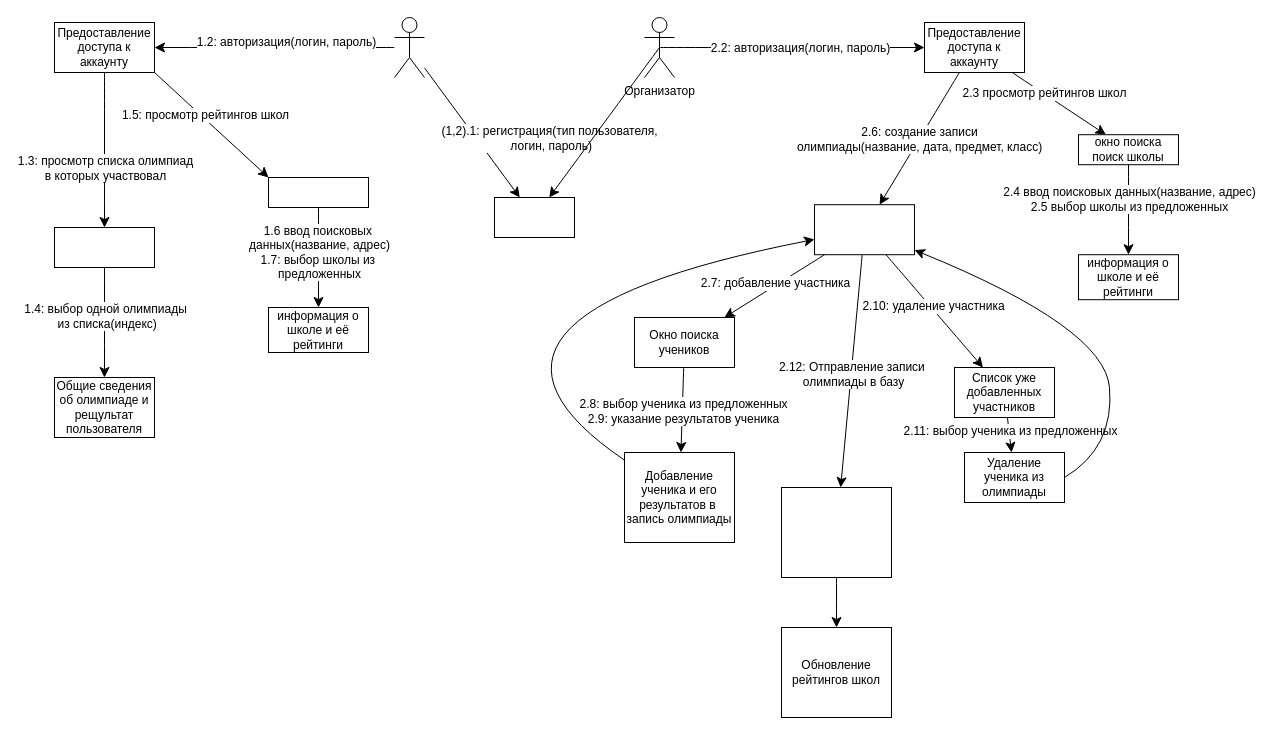
Image size: 1272x735. Some labels were removed from this diagram. Each missing label, with the centre of its shape:
"Добавление записи олимпиады в базу данных" goes at point 836,532.
"Запись аккаунта" goes at point 534,217.
"Окно добавления участников" goes at point 864,229.
"окно поиска школы" goes at point 318,192.
"Список олимпиад" goes at point 104,247.
"Ученик" goes at point 409,47.
